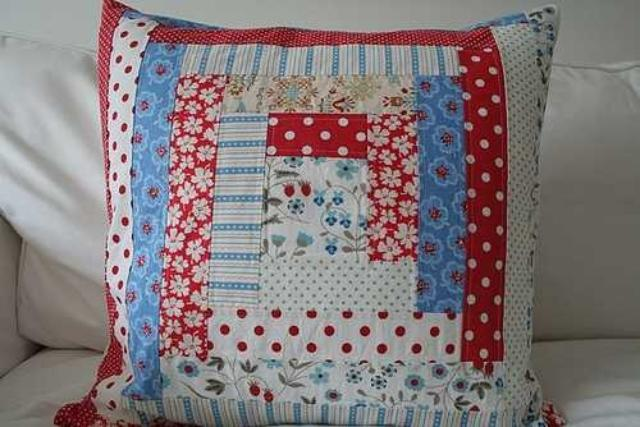pillow: (54, 0, 560, 426)
